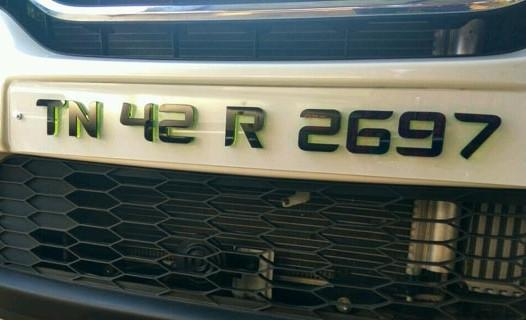License-Plate: (21, 80, 504, 165)
